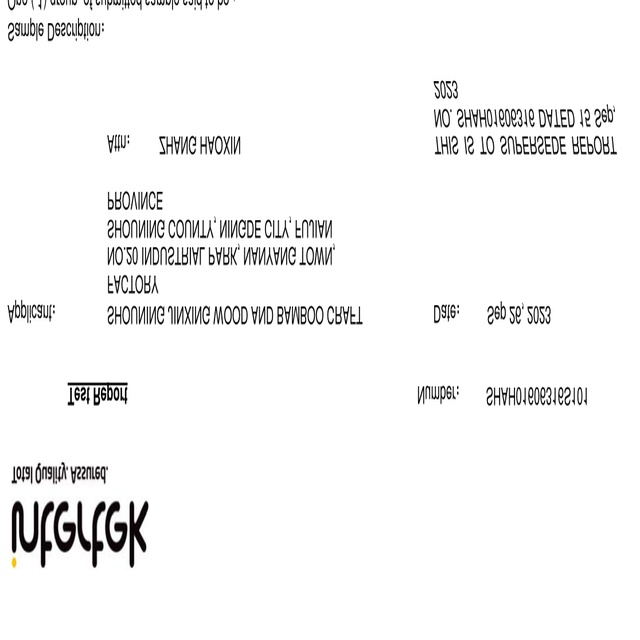intertek: (3, 494, 169, 573)
